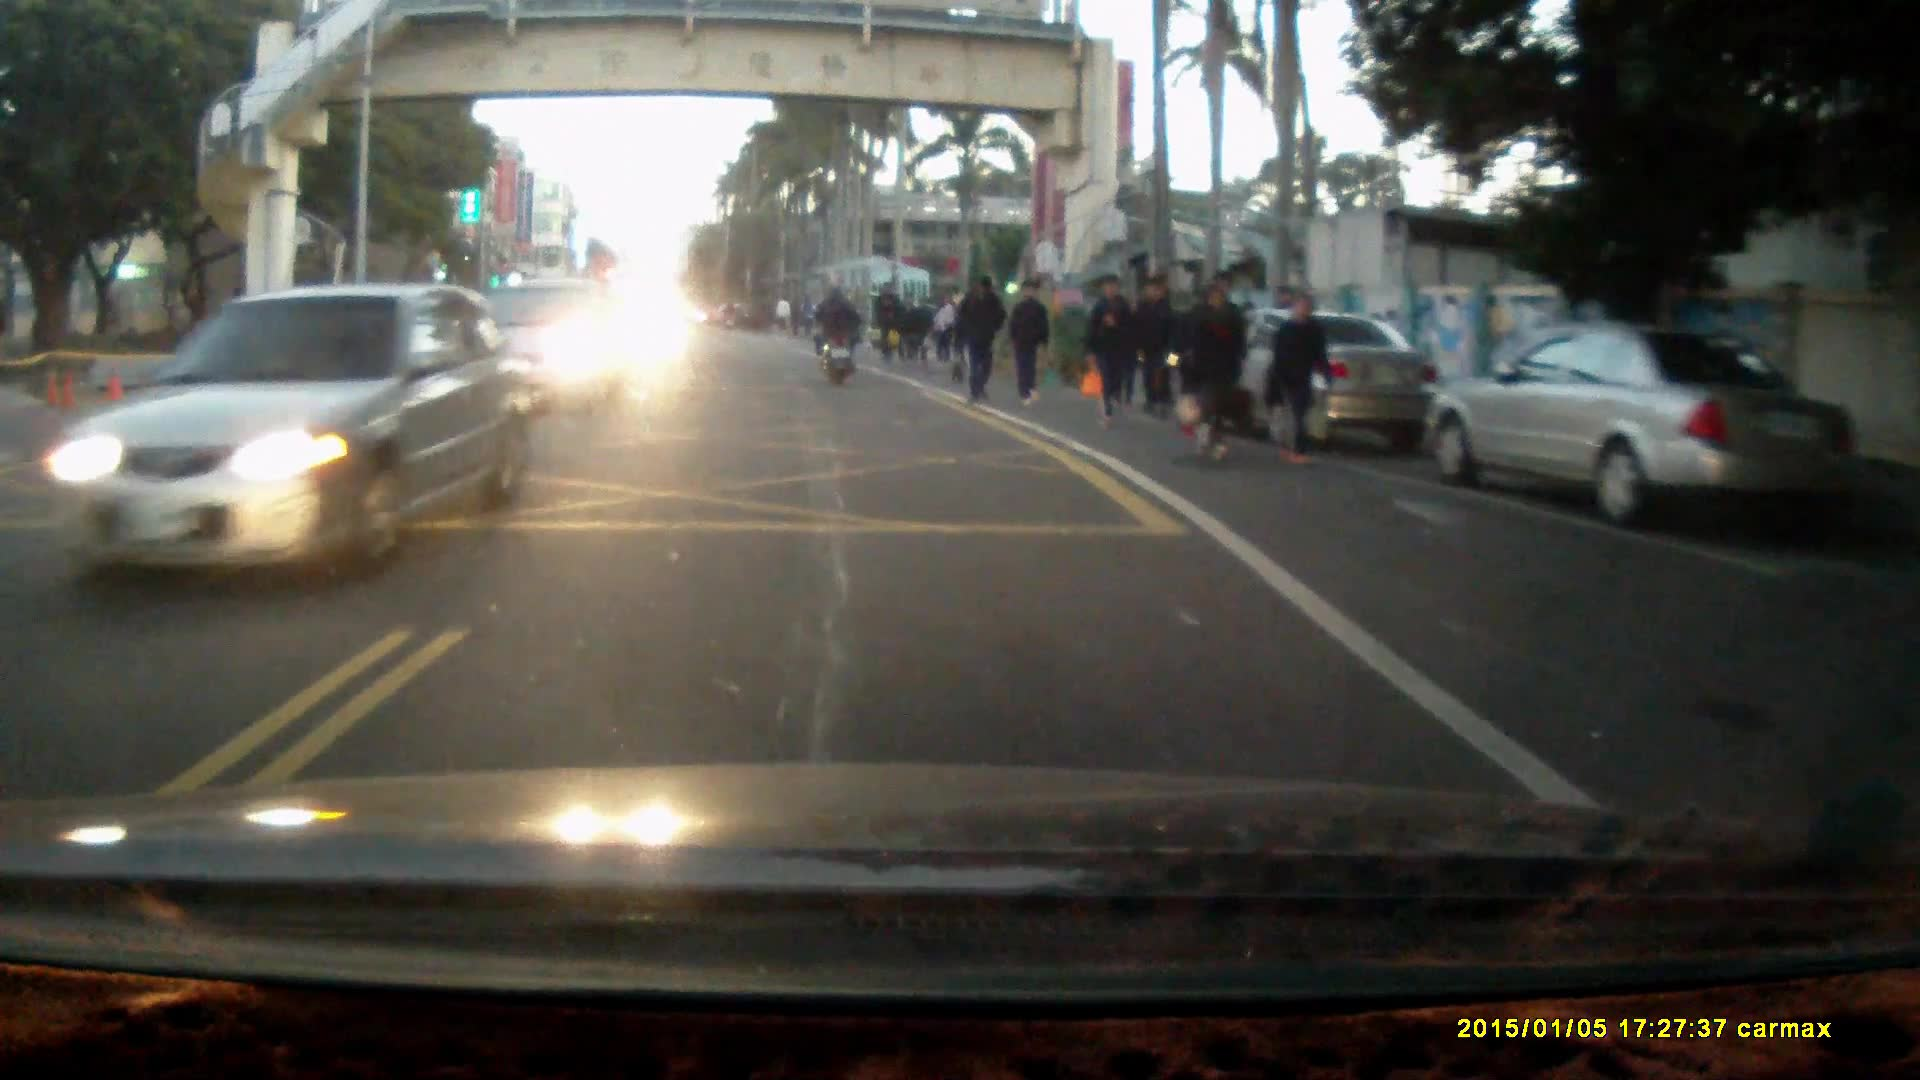pedestrian: (1265, 287, 1336, 465), (1188, 281, 1249, 461), (1081, 273, 1132, 428), (956, 274, 1008, 404), (1005, 275, 1053, 406), (1142, 268, 1185, 414), (869, 281, 899, 365), (929, 288, 957, 367), (894, 285, 923, 359)
rider: (812, 282, 860, 385)
vehicle: (43, 280, 534, 587), (1422, 319, 1857, 526), (1178, 309, 1446, 442), (441, 278, 625, 422)
